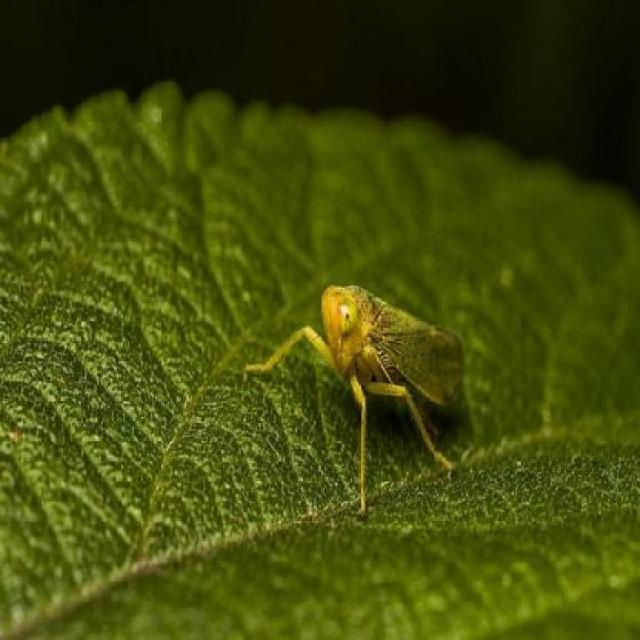green-leafhopper: (248, 280, 470, 502)
